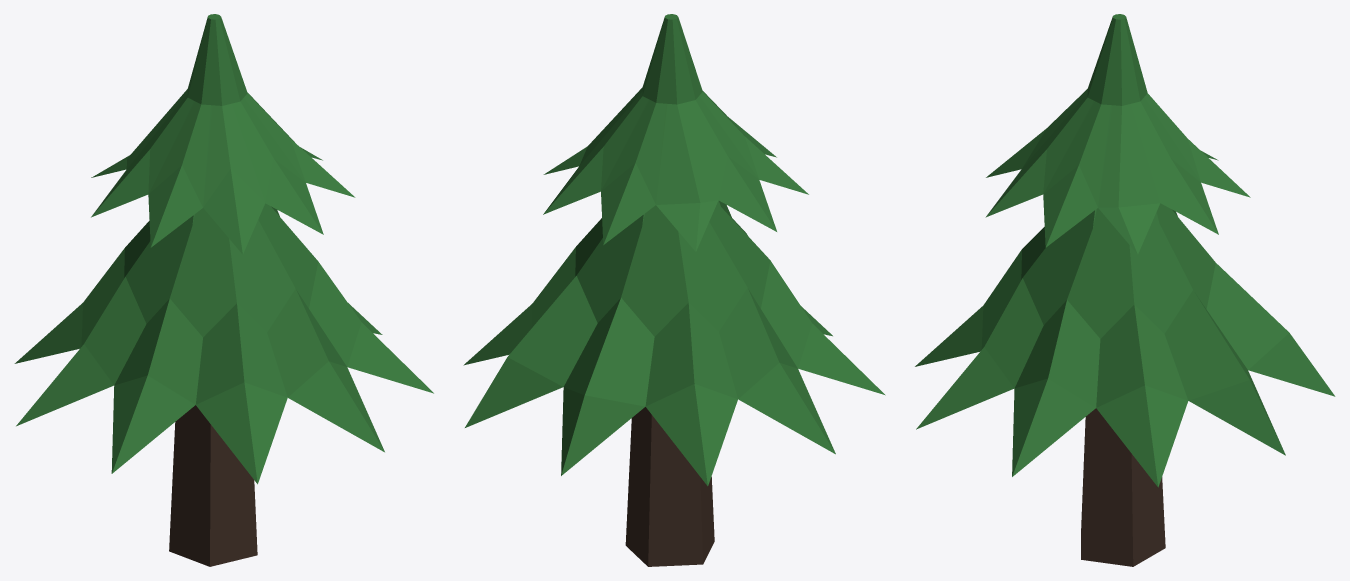
File: pinetree_short.fbx
3 renders of one model, left to right at view 1: azimuth 30°, elevation 25°; view 2: azimuth 150°, elevation 25°; view 3: azimuth 270°, elevation 25°, orthographic.
Parts seen in each view (by area): view 1: pineTree_short; view 2: pineTree_short; view 3: pineTree_short.
Boxes of the visible parts, x1,y1,x2,y2 form: pineTree_short: (14, 14, 433, 566); pineTree_short: (463, 14, 885, 566); pineTree_short: (915, 14, 1335, 566).
Size of the model in its own units: 460 by 632 by 454.
